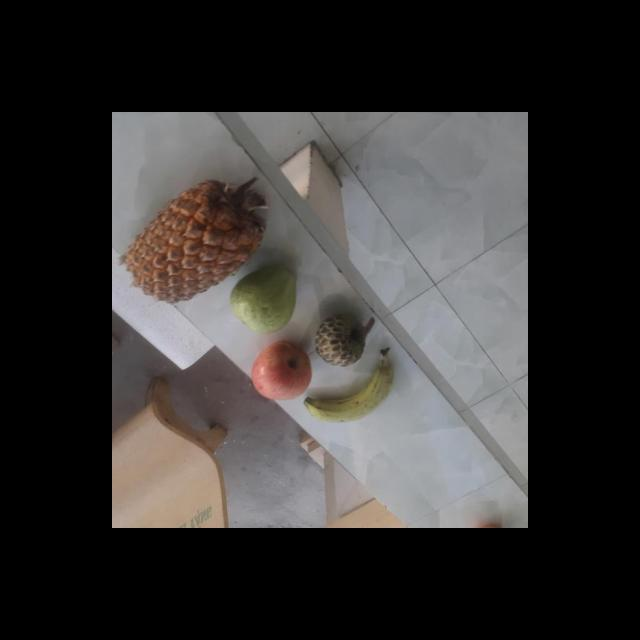Sakya fruit: (312, 312, 368, 368)
apple: (249, 342, 313, 402)
banana: (298, 348, 397, 426)
guava: (226, 264, 298, 333)
pineapple: (120, 181, 266, 302)
